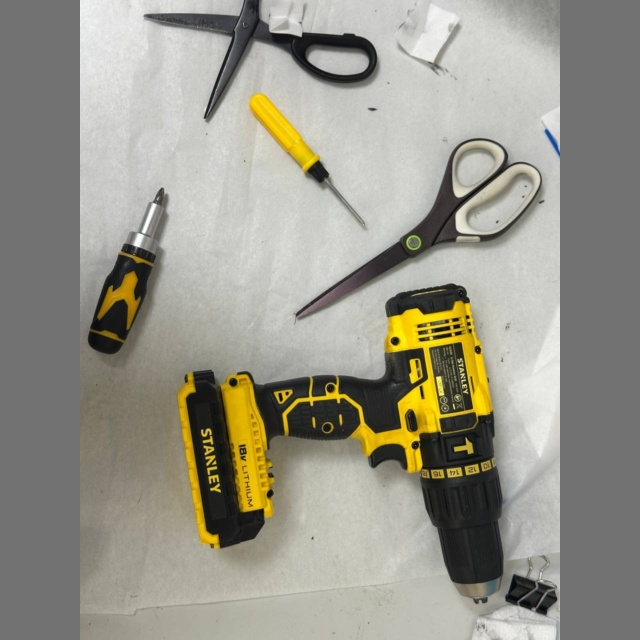drill: (179, 284, 503, 602)
scissor: (296, 138, 542, 318), (145, 0, 377, 118)
screwdriver: (249, 93, 365, 227), (88, 188, 165, 354)
